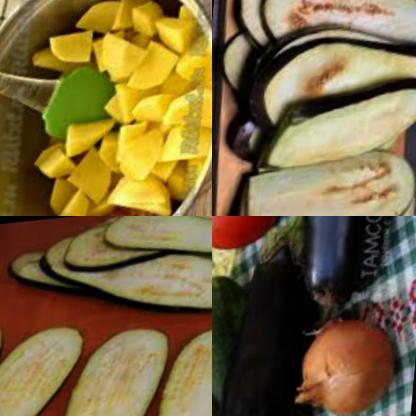cucumber: (212, 270, 268, 416)
eggplant: (224, 0, 416, 216), (0, 216, 212, 342), (220, 244, 323, 416), (56, 311, 163, 416), (294, 216, 405, 317), (0, 311, 89, 416), (157, 308, 212, 416)
onion: (296, 318, 409, 416)
potato: (30, 0, 212, 216)
tomato: (212, 216, 295, 260)
